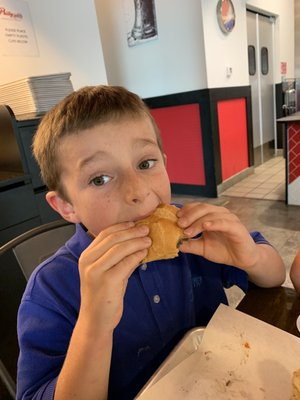soup: (128, 203, 189, 265)
